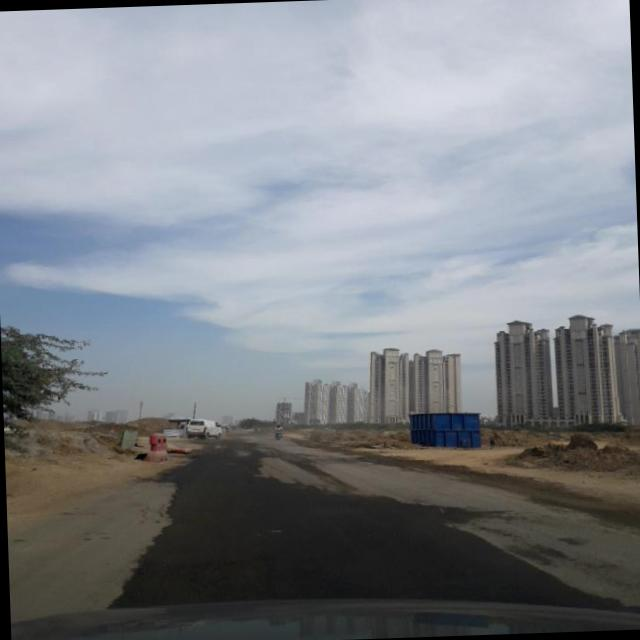pothole: (106, 472, 186, 596)
